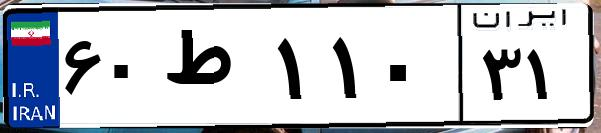0: (385, 28, 445, 110), (110, 28, 158, 98)
1: (270, 28, 330, 110), (330, 28, 385, 110), (525, 38, 570, 115)
3: (475, 38, 525, 113)
6: (57, 26, 110, 100)
ط: (158, 20, 270, 120)
